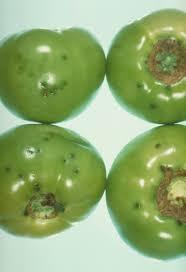tomato bacterial spot: (1, 125, 108, 240), (106, 125, 186, 262), (1, 28, 107, 126), (106, 10, 186, 126)
